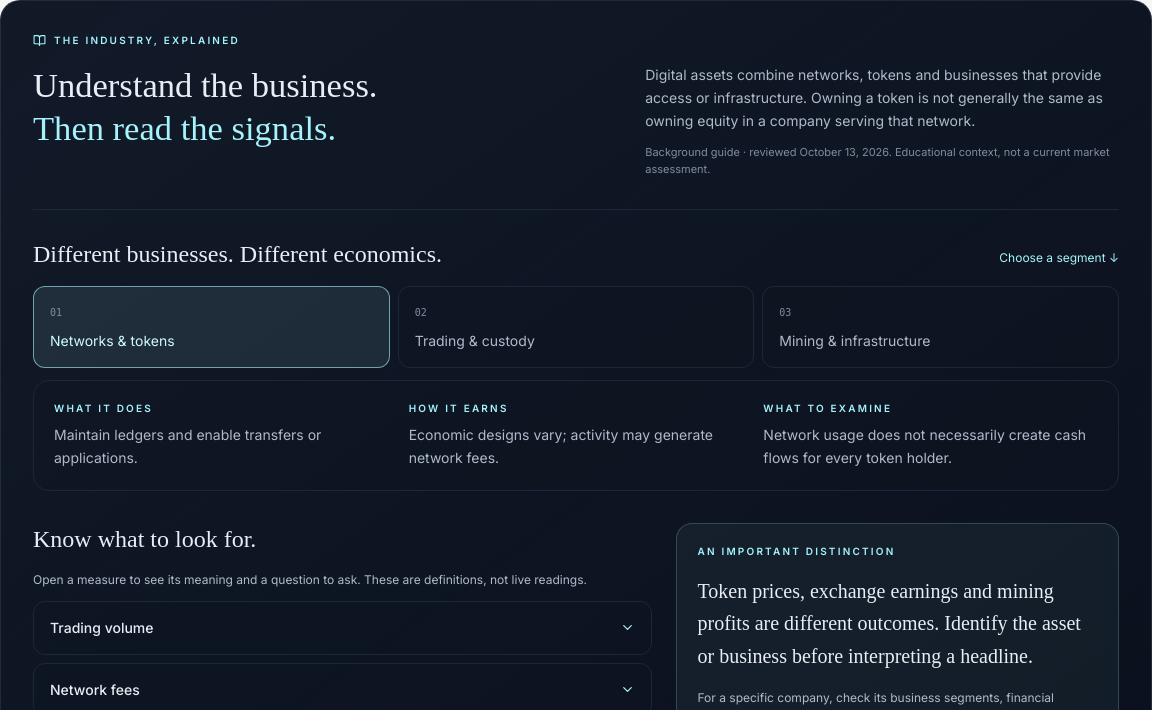
provides a usable distinct guide for crypto even without reporting
The width and height of the screenshot is (1152, 710).
Step 1. Click the button "02 Trading & custody" → (475, 341), box [398,286,754,368]
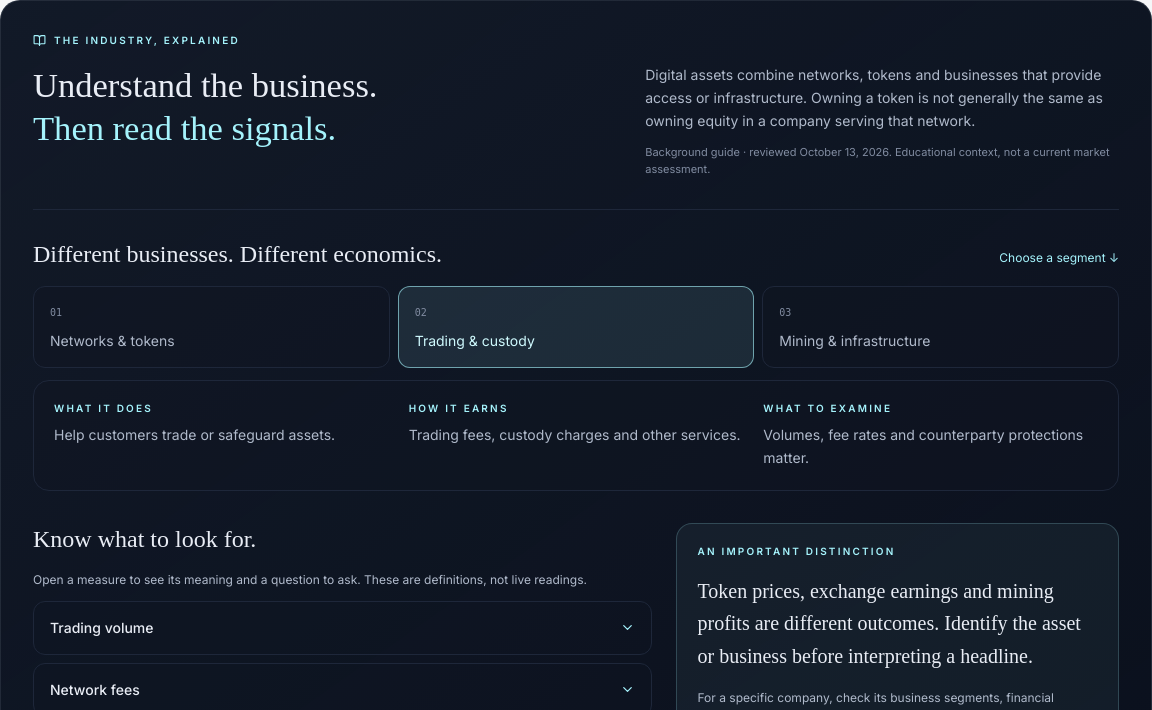
Expected: the text "definitions, not live readings" is shown, [33,572,587,587]
Result: the text "Trading fees, custody charges and other services." is shown at [409,424,743,447]
Result: the text "Economic designs vary; activity may generate network fees." is gone
